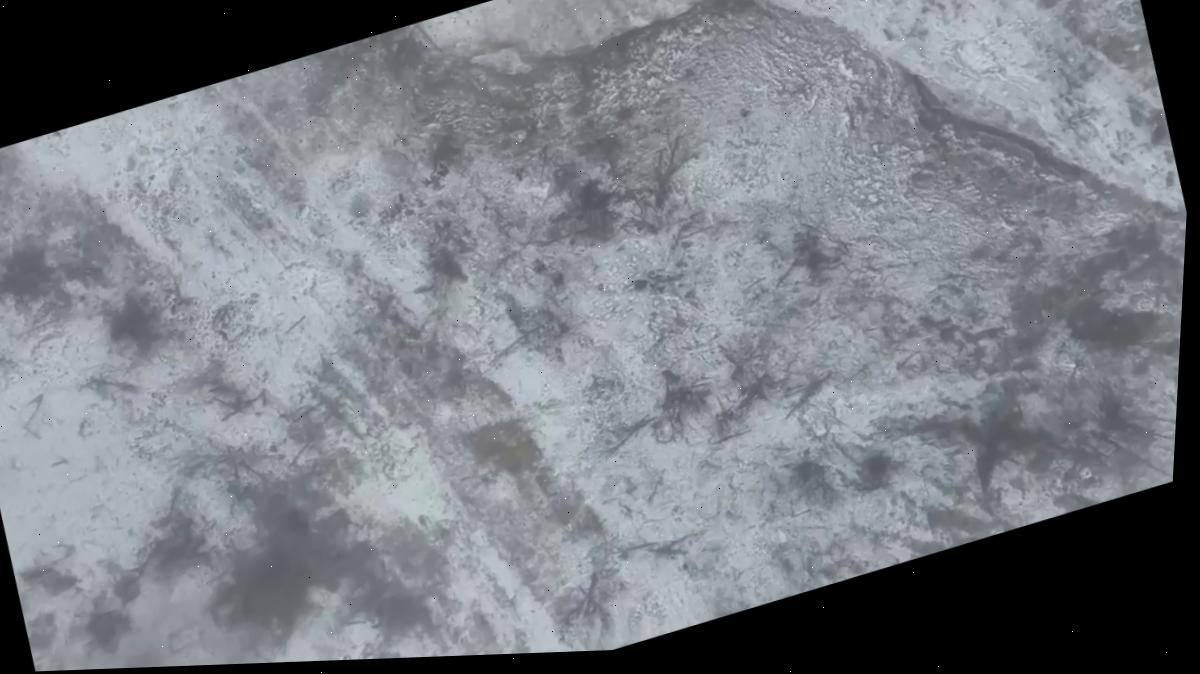person: (549, 270, 563, 287), (533, 259, 545, 273)
